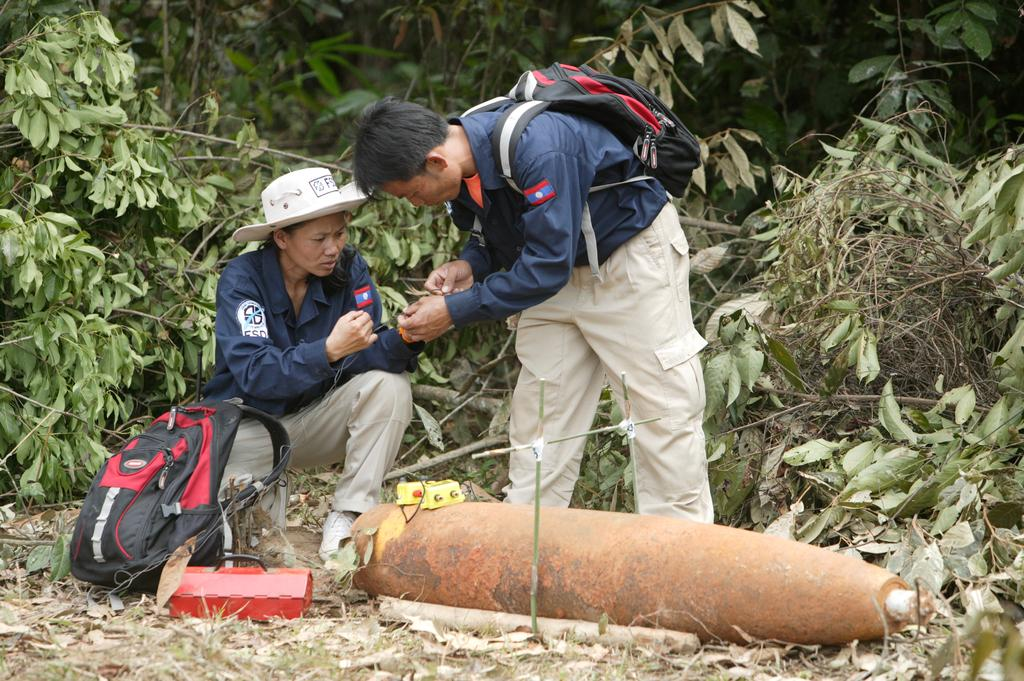Hat: (232, 166, 374, 246)
